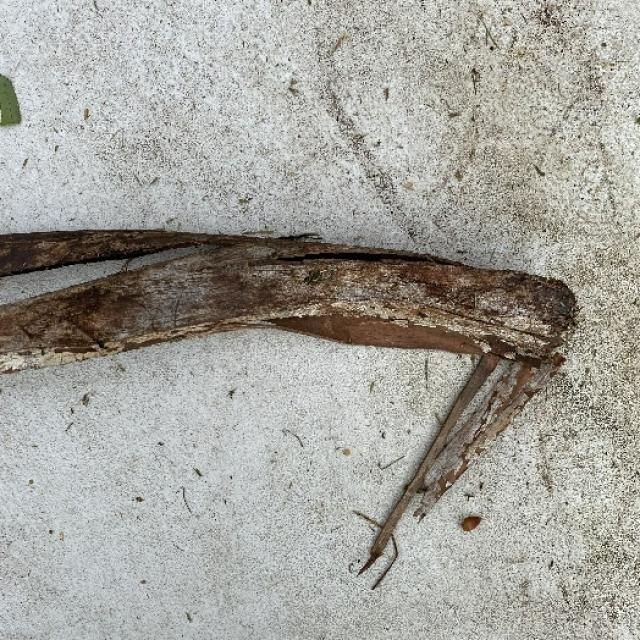organik: (8, 203, 584, 580)
